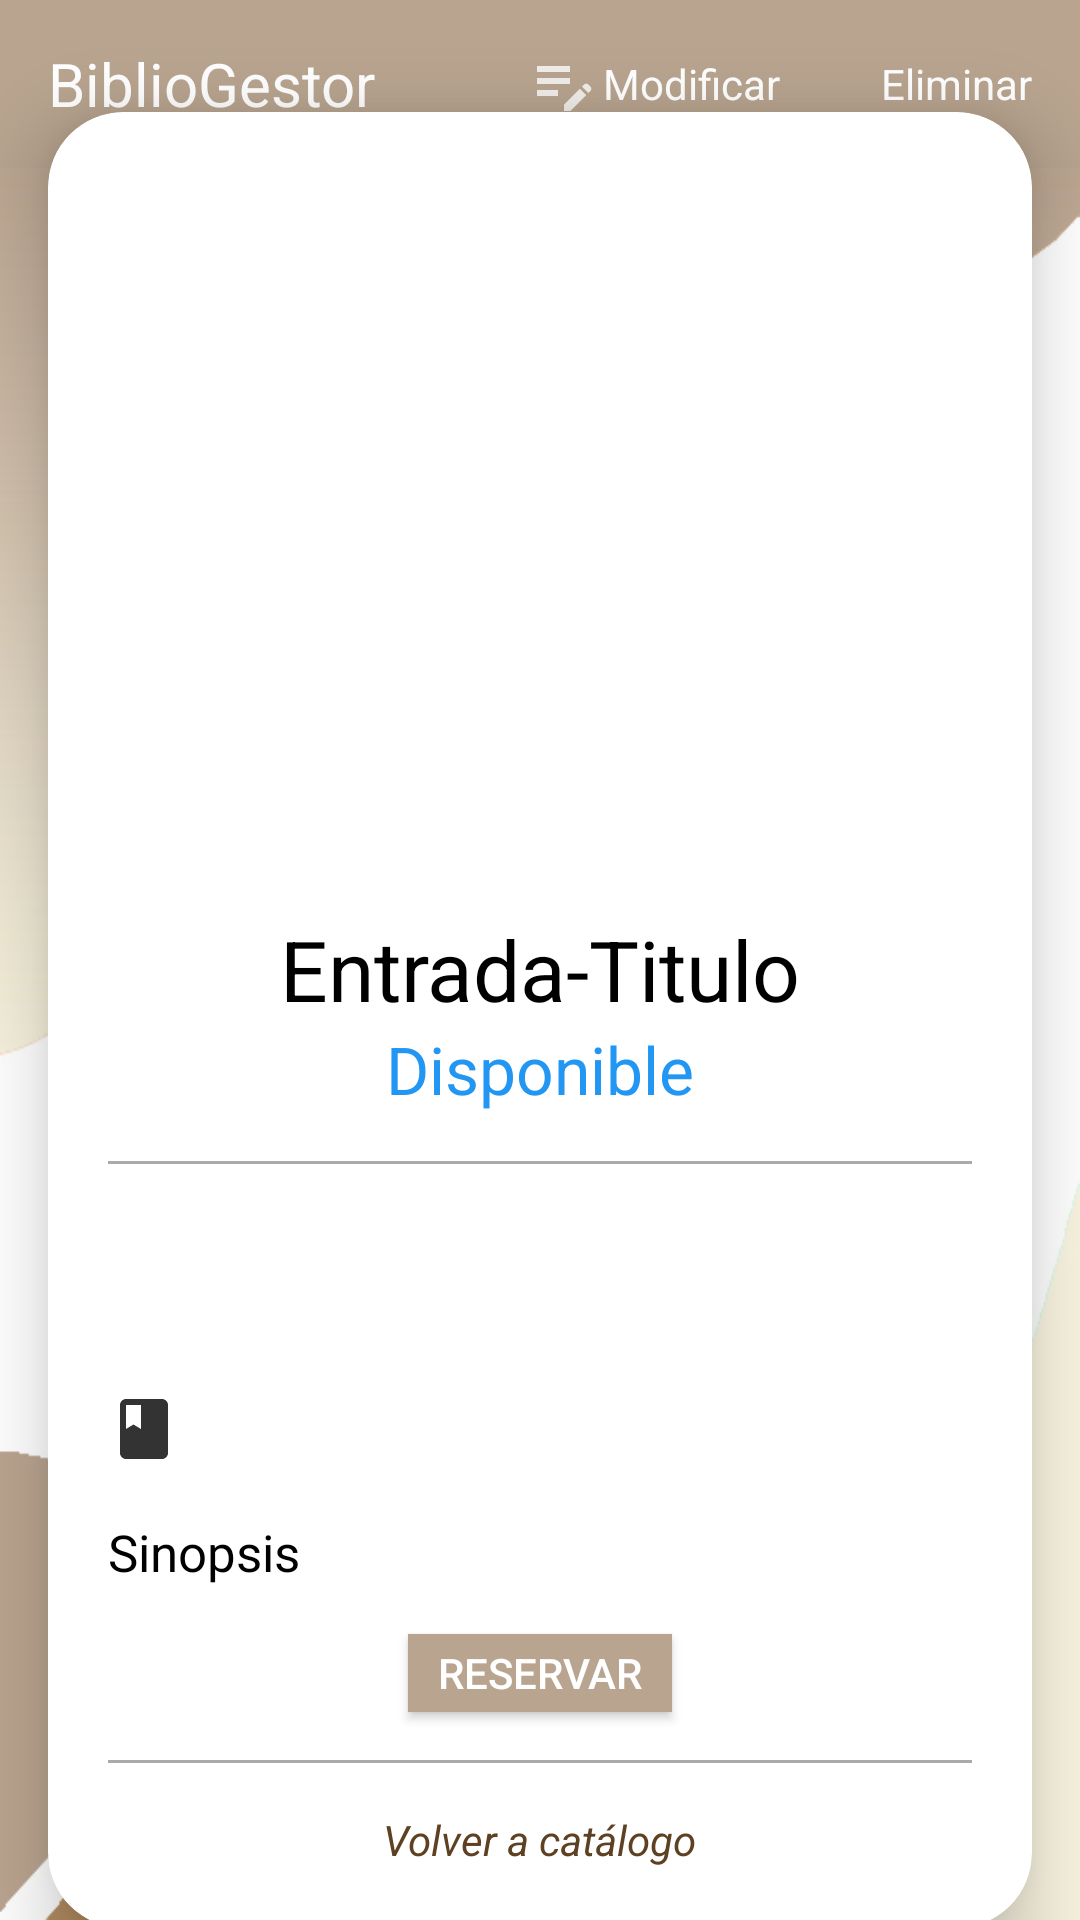

Where to tap for icons on this 1080w x 1920h app screen, as [x,y]:
edit: [564,84]
